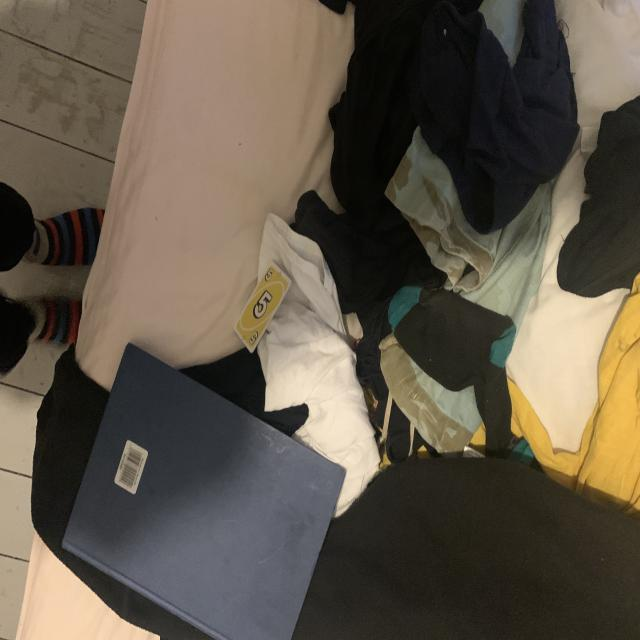lyellow-5: (264, 267, 275, 283)
